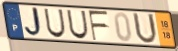0: (113, 11, 134, 43)
F: (88, 10, 110, 42)
J: (24, 7, 46, 39)
U: (131, 11, 159, 46), (43, 7, 67, 39), (66, 9, 90, 40)
